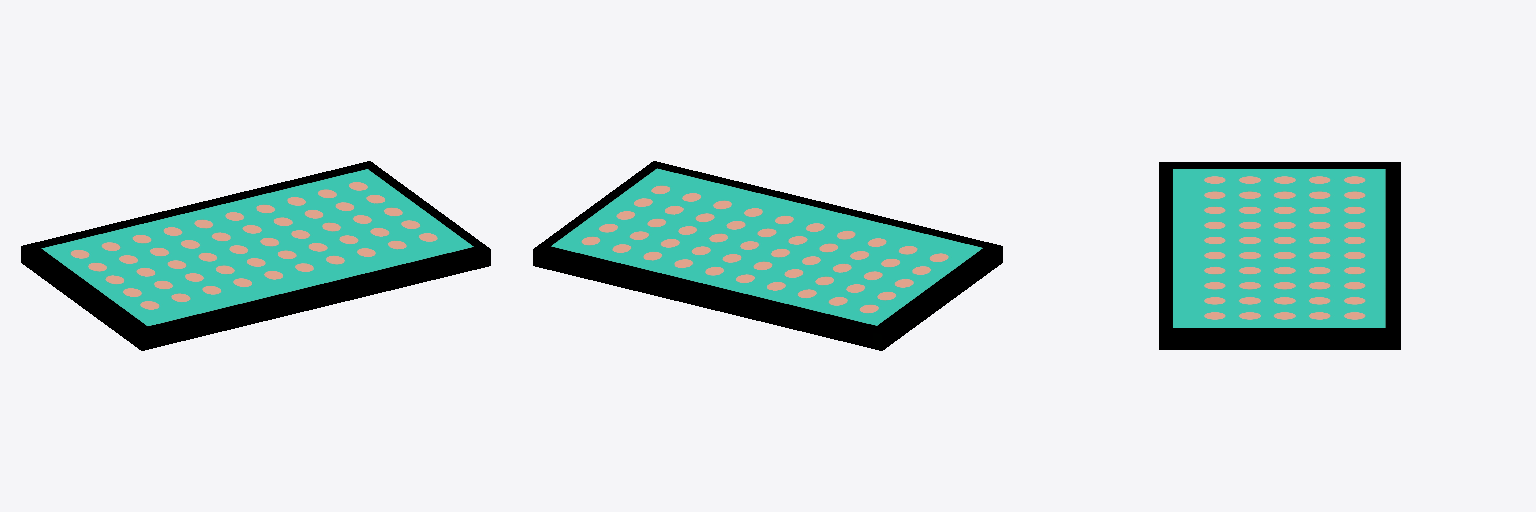
The picture shows the model from 3 angles: view 1: azimuth 30°, elevation 25°; view 2: azimuth 150°, elevation 25°; view 3: azimuth 270°, elevation 25°; orthographic projection.
Visible parts, largest first — view 1: Cube; view 2: Cube; view 3: Cube.
Boxes of the visible parts, x1,y1,x2,y2 form: Cube: [21, 161, 490, 350]; Cube: [533, 161, 1002, 350]; Cube: [1159, 162, 1400, 349].
Bounding box in the file's own units: 4 × 0.18 × 2.4.
1 materials, 1 textured.